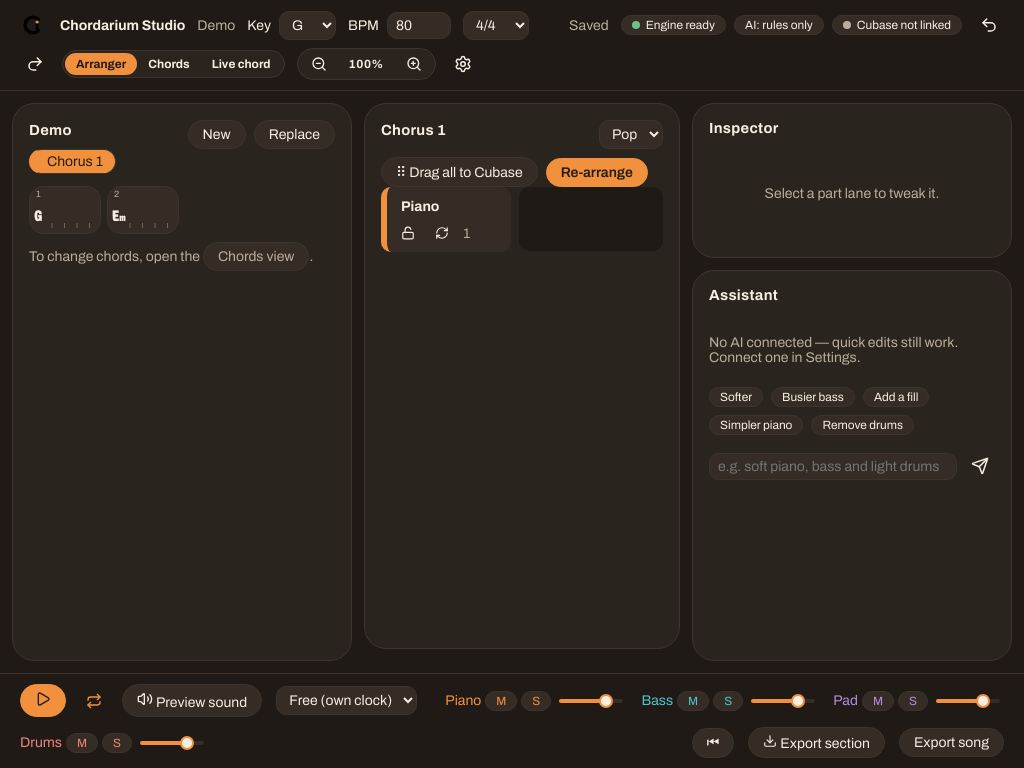
Test: App › shows an error toast when the core rejects a chord
This screenshot has width=1024, height=768.
Click the button "Chords" at coordinates (169, 64), box [137,53,201,75]
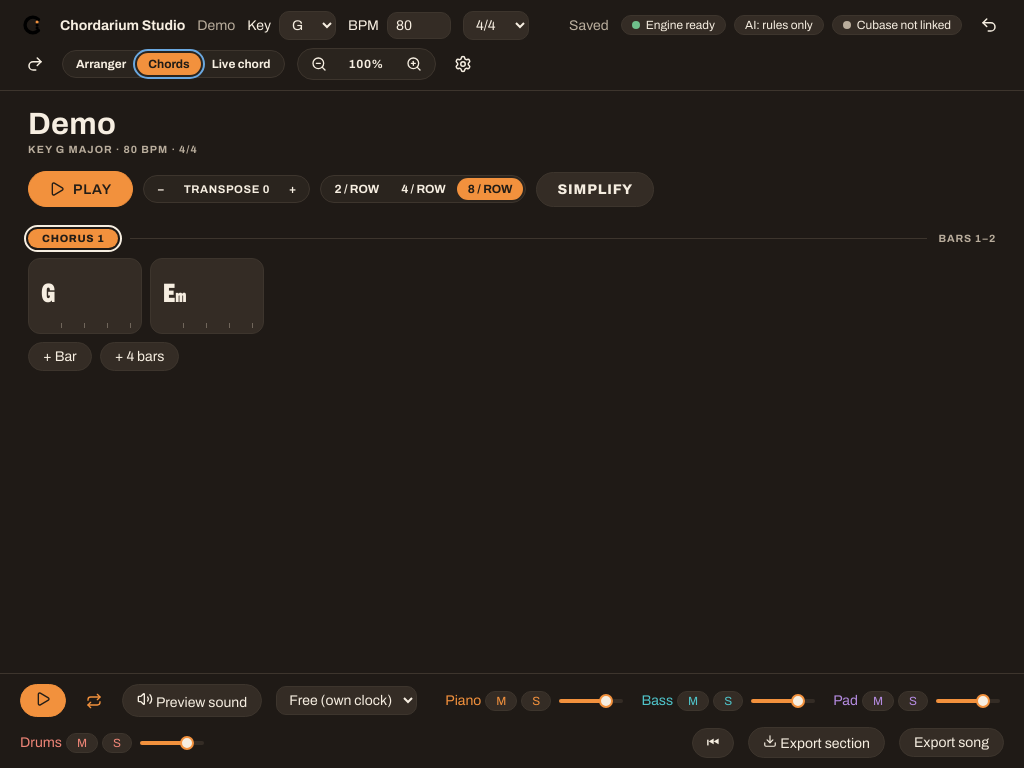
Click the button named "Bar 1 chord G" at coordinates (85, 293), box [41,278,129,308]
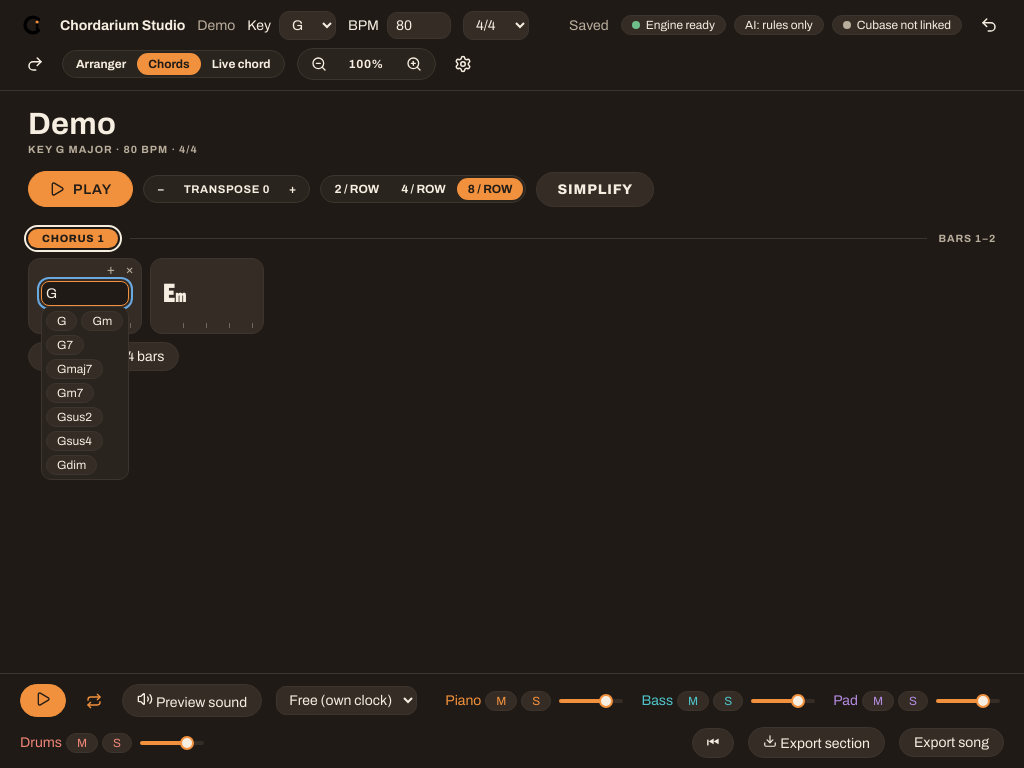
Type "q" into the field named "Chord symbol" at coordinates (85, 293), box [41,280,129,306]
Then press Enter
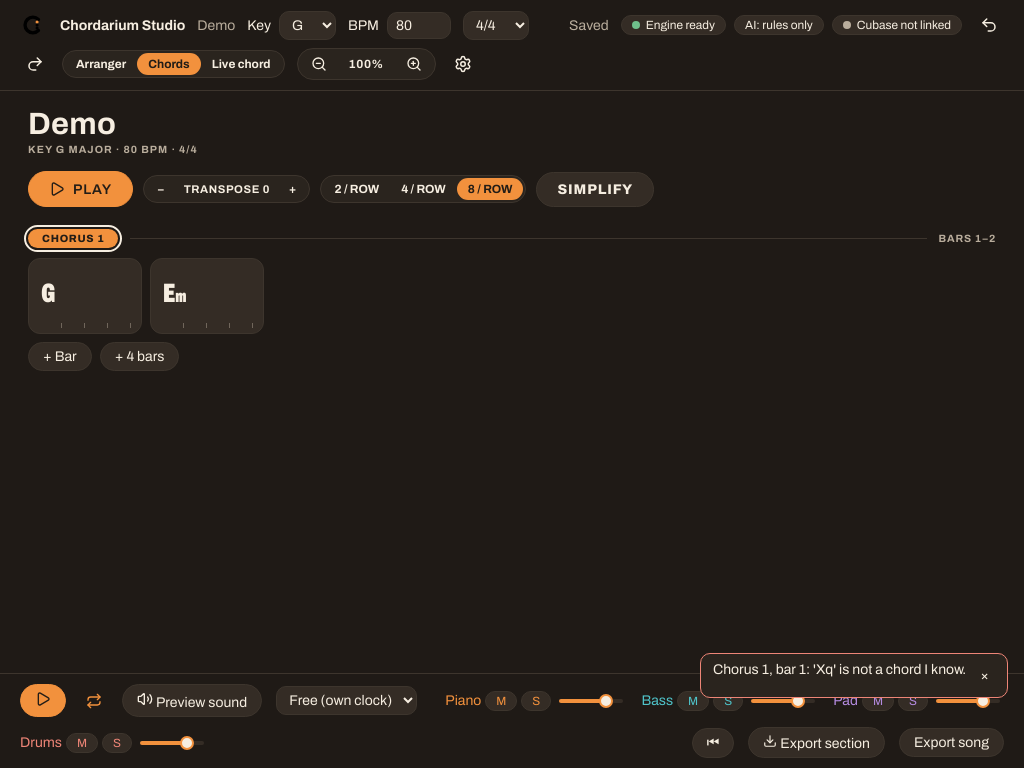
Result: the text "Chorus 1, bar 1: 'Xq' is not a chord I know. ×" is shown at [700,653,1008,698]
